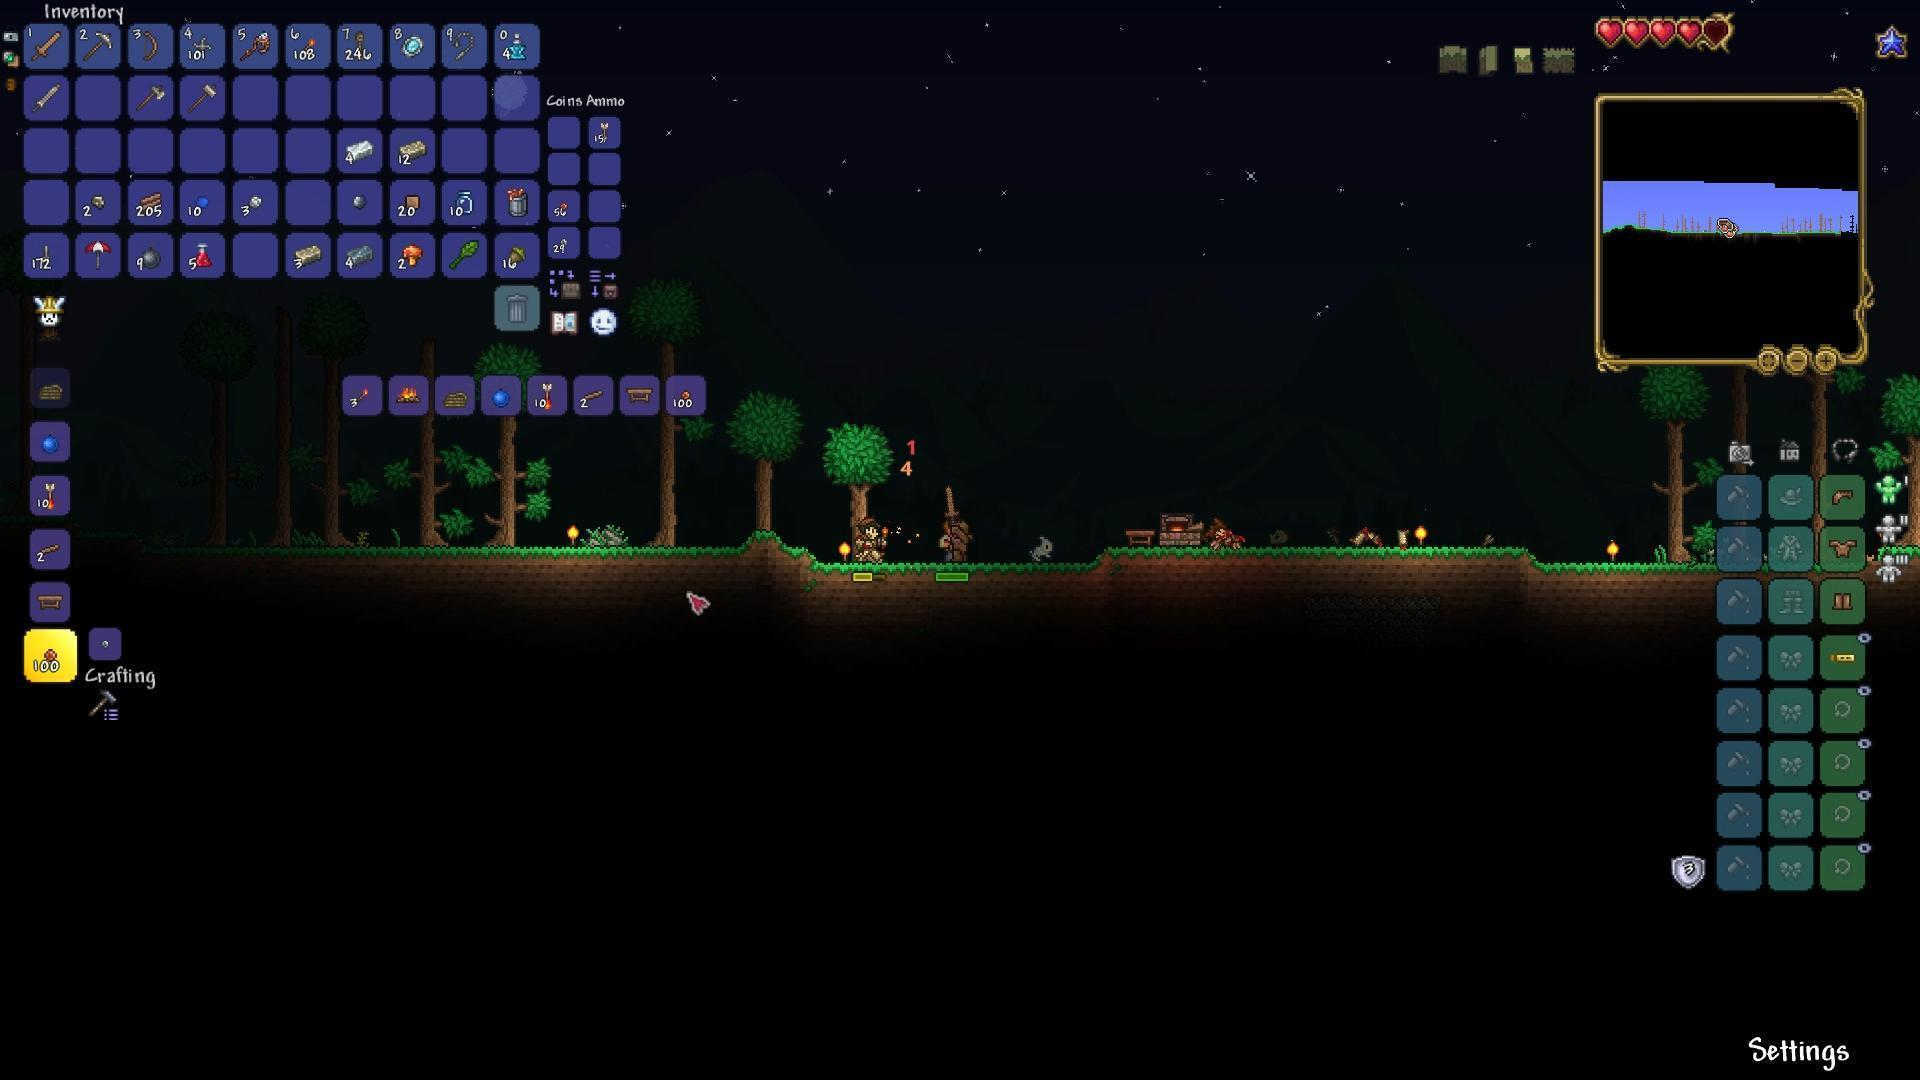arrow: (41, 477, 57, 506), (541, 378, 553, 409), (600, 117, 611, 144)
axe: (135, 80, 170, 109)
bomb: (140, 243, 165, 269)
bow: (140, 29, 161, 63)
breastplate: (1825, 538, 1858, 559)
furnace: (1156, 506, 1204, 547)
gel: (195, 196, 214, 210)
knife: (40, 241, 49, 270)
pickaxe: (80, 30, 113, 65)
rope: (353, 26, 367, 65)
shuriken: (193, 33, 214, 58)
wood: (138, 190, 162, 212)
zombie: (852, 513, 891, 570)
